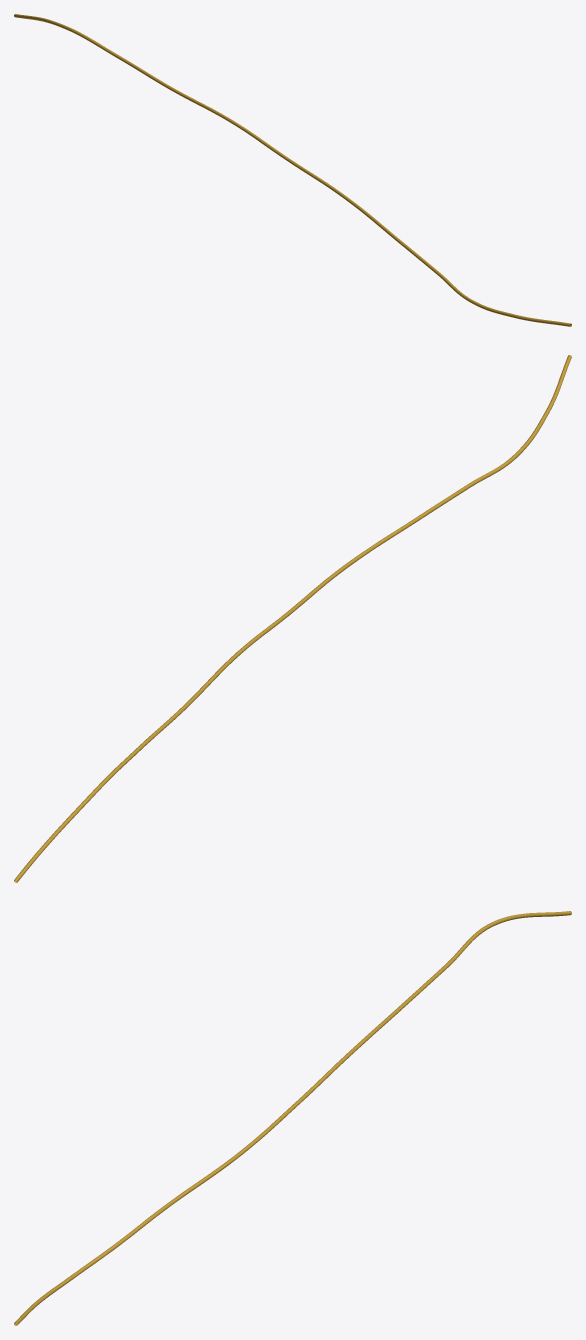
The picture shows the model from 3 angles, top to bottom: view 1: azimuth 30°, elevation 25°; view 2: azimuth 150°, elevation 25°; view 3: azimuth 330°, elevation 25°; orthographic projection. The views are drawn at different scales.
Visible parts, largest first — view 1: 左侧腓浅神经; view 2: 左侧腓浅神经; view 3: 左侧腓浅神经.
Boxes of the visible parts, <box> form: 左侧腓浅神经: <box>14,14,571,326</box>; 左侧腓浅神经: <box>14,355,571,882</box>; 左侧腓浅神经: <box>14,911,571,1325</box>.
Bounding box in the file's own units: 0.0299 × 0.0232 × 0.4283.
